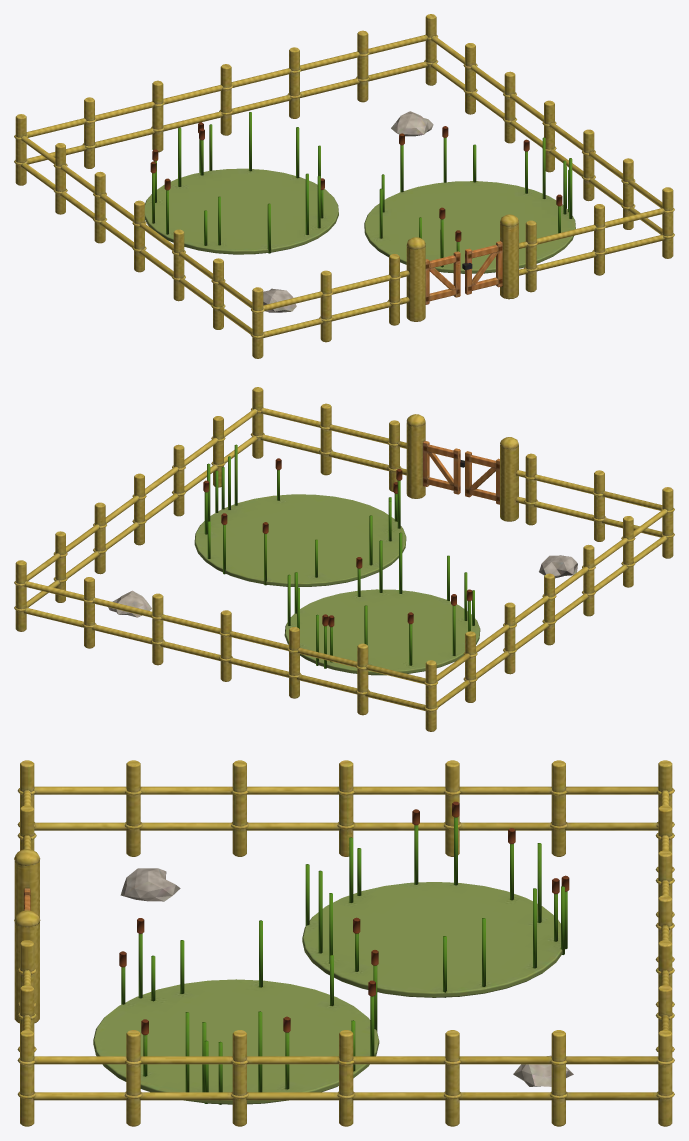
Rendered from heron_marsh.glb.
The picture shows the model from 3 angles, top to bottom: view 1: azimuth 30°, elevation 25°; view 2: azimuth 150°, elevation 25°; view 3: azimuth 270°, elevation 25°; orthographic projection. The views are drawn at different scales.
Parts seen in each view (by area): view 1: heron_marsh, gate1, gate0; view 2: heron_marsh, gate1, gate0; view 3: heron_marsh.
Part boxes in pixels (box(x1,y1,x2,y2)): heron_marsh: box(14, 14, 674, 358); gate1: box(462, 241, 502, 294); gate0: box(425, 251, 460, 304); heron_marsh: box(14, 387, 674, 731); gate1: box(423, 441, 464, 494); gate0: box(465, 451, 499, 504); heron_marsh: box(14, 760, 674, 1126).
Bounding box in the file's own units: 2.99 × 0.542 × 3.
1 material, 1 textured.
